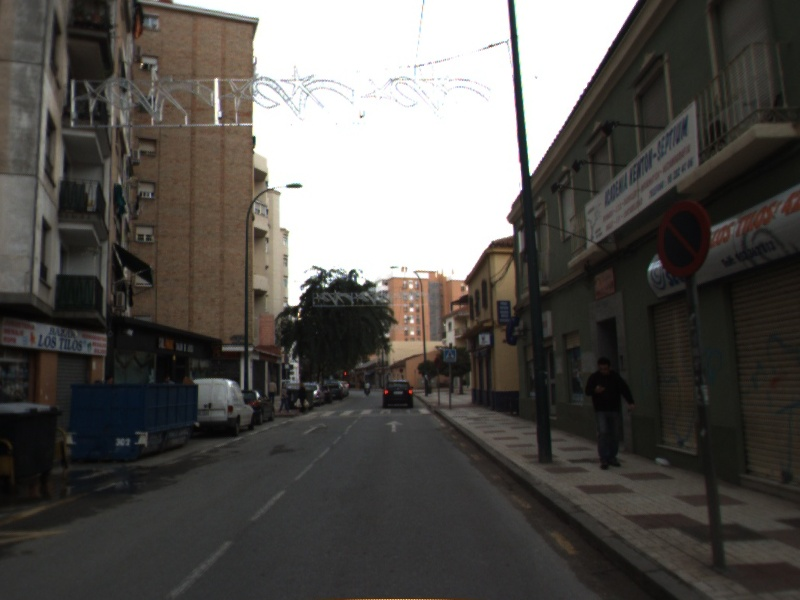STRAIGHT: (300, 421, 329, 437), (383, 418, 406, 434)
